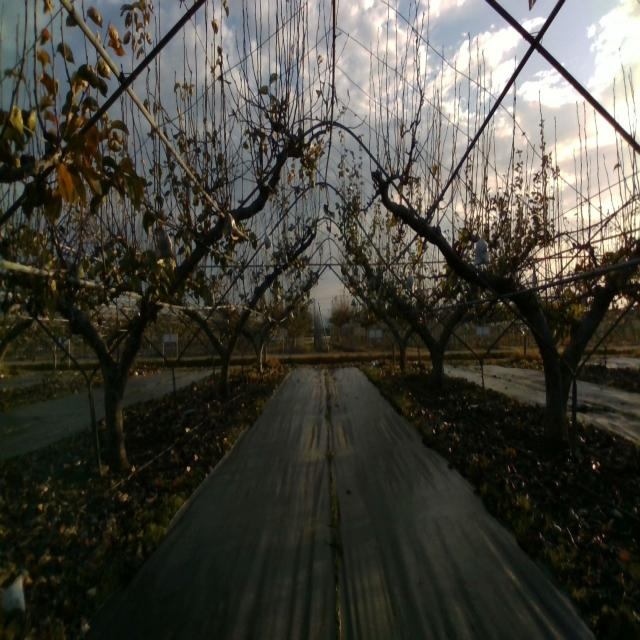pearbags: (155, 229, 176, 262), (474, 236, 490, 266), (224, 212, 238, 238)
